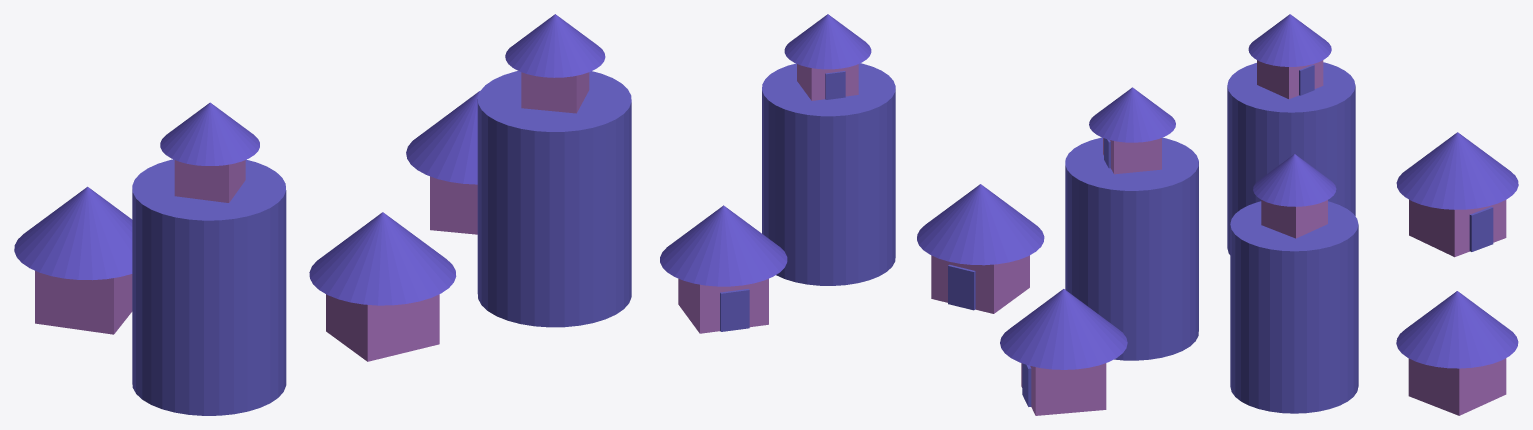
The model's file is casa.obj.
The picture shows the model from 3 angles, left to right: view 1: azimuth 30°, elevation 25°; view 2: azimuth 150°, elevation 25°; view 3: azimuth 270°, elevation 25°; orthographic projection. The views are drawn at different scales.
Visible parts, largest first — view 1: Cilindro_Cilindro, Cilindro.001_Cilindro.001, Cono_Material.004, Cono.001_Material.005, Cube_Material, Cube.001_Material, Cono.002_Material.003, Cono.003_Material.001, Cono.004_Material.002, Cube.004_Material, Cube.002_Material, Cube.003_Material; view 2: Cilindro_Cilindro, Cilindro.001_Cilindro.001, Cono.002_Material.003, Cono_Material.004, Cono.001_Material.005, Cube.001_Material, Cube_Material, Cono.003_Material.001, Cono.004_Material.002, Cube.002_Material, Cube.004_Material, Cube.003_Material (+3 smaller); view 3: Cilindro_Cilindro, Cilindro.001_Cilindro.001, Cono.002_Material.003, Cono.001_Material.005, Cube.002_Material, Cube.001_Material, Cono.003_Material.001, Cono.004_Material.002, Cube.003_Material, Cube.004_Material, Cubo.001_Material.009, Cubo.004_Material.006.
Boxes of the visible parts, box(x1,y1,x2,y2) form: Cilindro_Cilindro: box(477, 71, 631, 327); Cilindro.001_Cilindro.001: box(132, 159, 286, 415); Cono_Material.004: box(309, 212, 456, 305); Cono.001_Material.005: box(14, 186, 132, 280); Cube_Material: box(326, 294, 439, 361); Cube.001_Material: box(35, 271, 132, 334); Cono.002_Material.003: box(406, 91, 479, 184); Cono.003_Material.001: box(505, 14, 605, 77); Cono.004_Material.002: box(160, 102, 259, 165); Cube.004_Material: box(174, 160, 245, 202); Cube.002_Material: box(430, 176, 477, 234); Cube.003_Material: box(521, 72, 589, 113); Cilindro_Cilindro: box(762, 63, 895, 285); Cilindro.001_Cilindro.001: box(1065, 137, 1198, 360); Cono.002_Material.003: box(660, 205, 787, 286); Cono_Material.004: box(917, 184, 1044, 265); Cono.001_Material.005: box(1000, 289, 1127, 369); Cube.001_Material: box(1021, 363, 1106, 415); Cube_Material: box(931, 255, 1029, 313); Cono.003_Material.001: box(784, 14, 871, 69); Cono.004_Material.002: box(1089, 87, 1175, 142); Cube.002_Material: box(678, 278, 768, 333); Cube.004_Material: box(1103, 138, 1161, 174); Cube.003_Material: box(797, 64, 858, 100); Cilindro_Cilindro: box(1230, 201, 1358, 413); Cilindro.001_Cilindro.001: box(1227, 62, 1355, 254); Cono.002_Material.003: box(1396, 291, 1518, 368); Cono.001_Material.005: box(1396, 132, 1518, 209); Cube.002_Material: box(1408, 358, 1506, 415); Cube.001_Material: box(1409, 199, 1506, 257); Cono.003_Material.001: box(1253, 154, 1336, 206); Cono.004_Material.002: box(1248, 14, 1331, 66); Cube.003_Material: box(1261, 200, 1327, 238); Cube.004_Material: box(1257, 60, 1323, 99); Cubo.001_Material.009: box(1469, 206, 1493, 251); Cubo.004_Material.006: box(1299, 64, 1314, 95).
Bounding box in the file's own units: 34.65 × 18.06 × 20.28.
